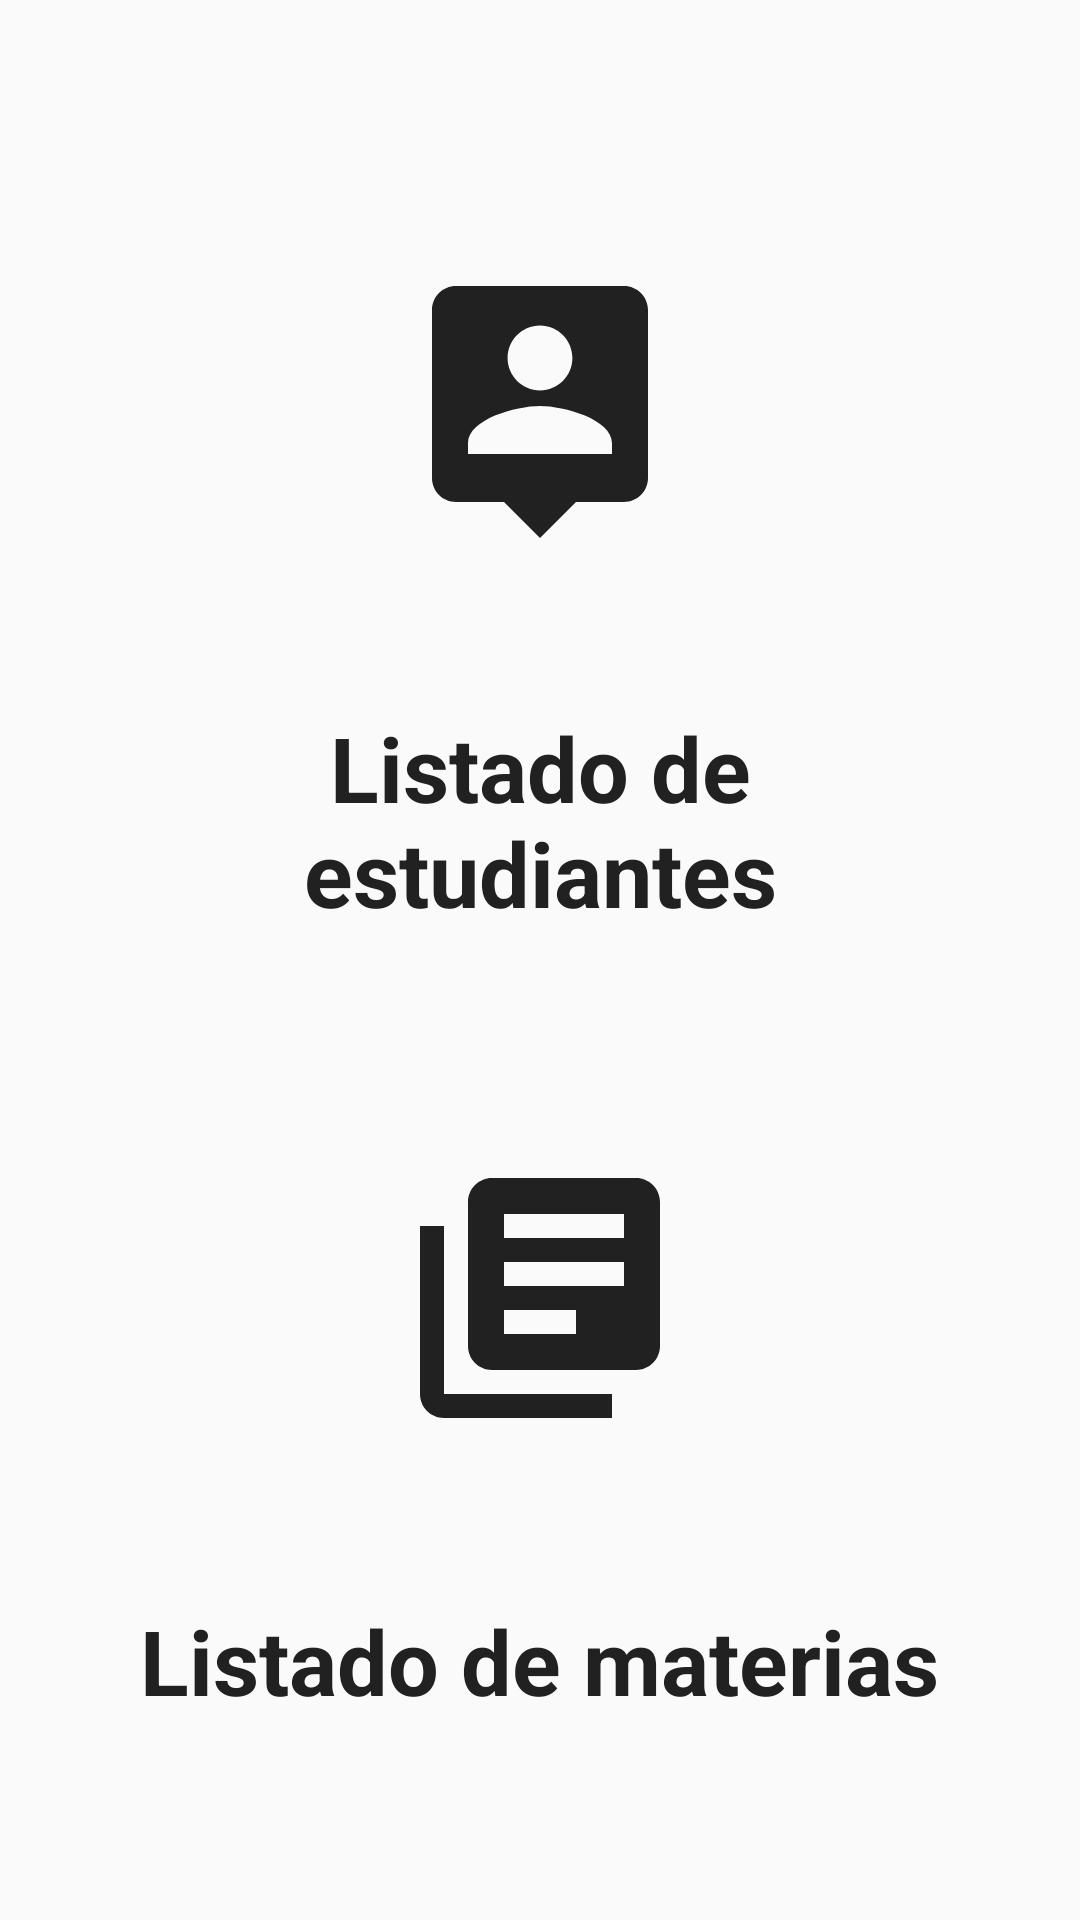

Where to tap for icons on this 1080px×1920px app screen, as (x=x, y=y):
students list: (x=540, y=412)
subjects list: (x=540, y=1298)
